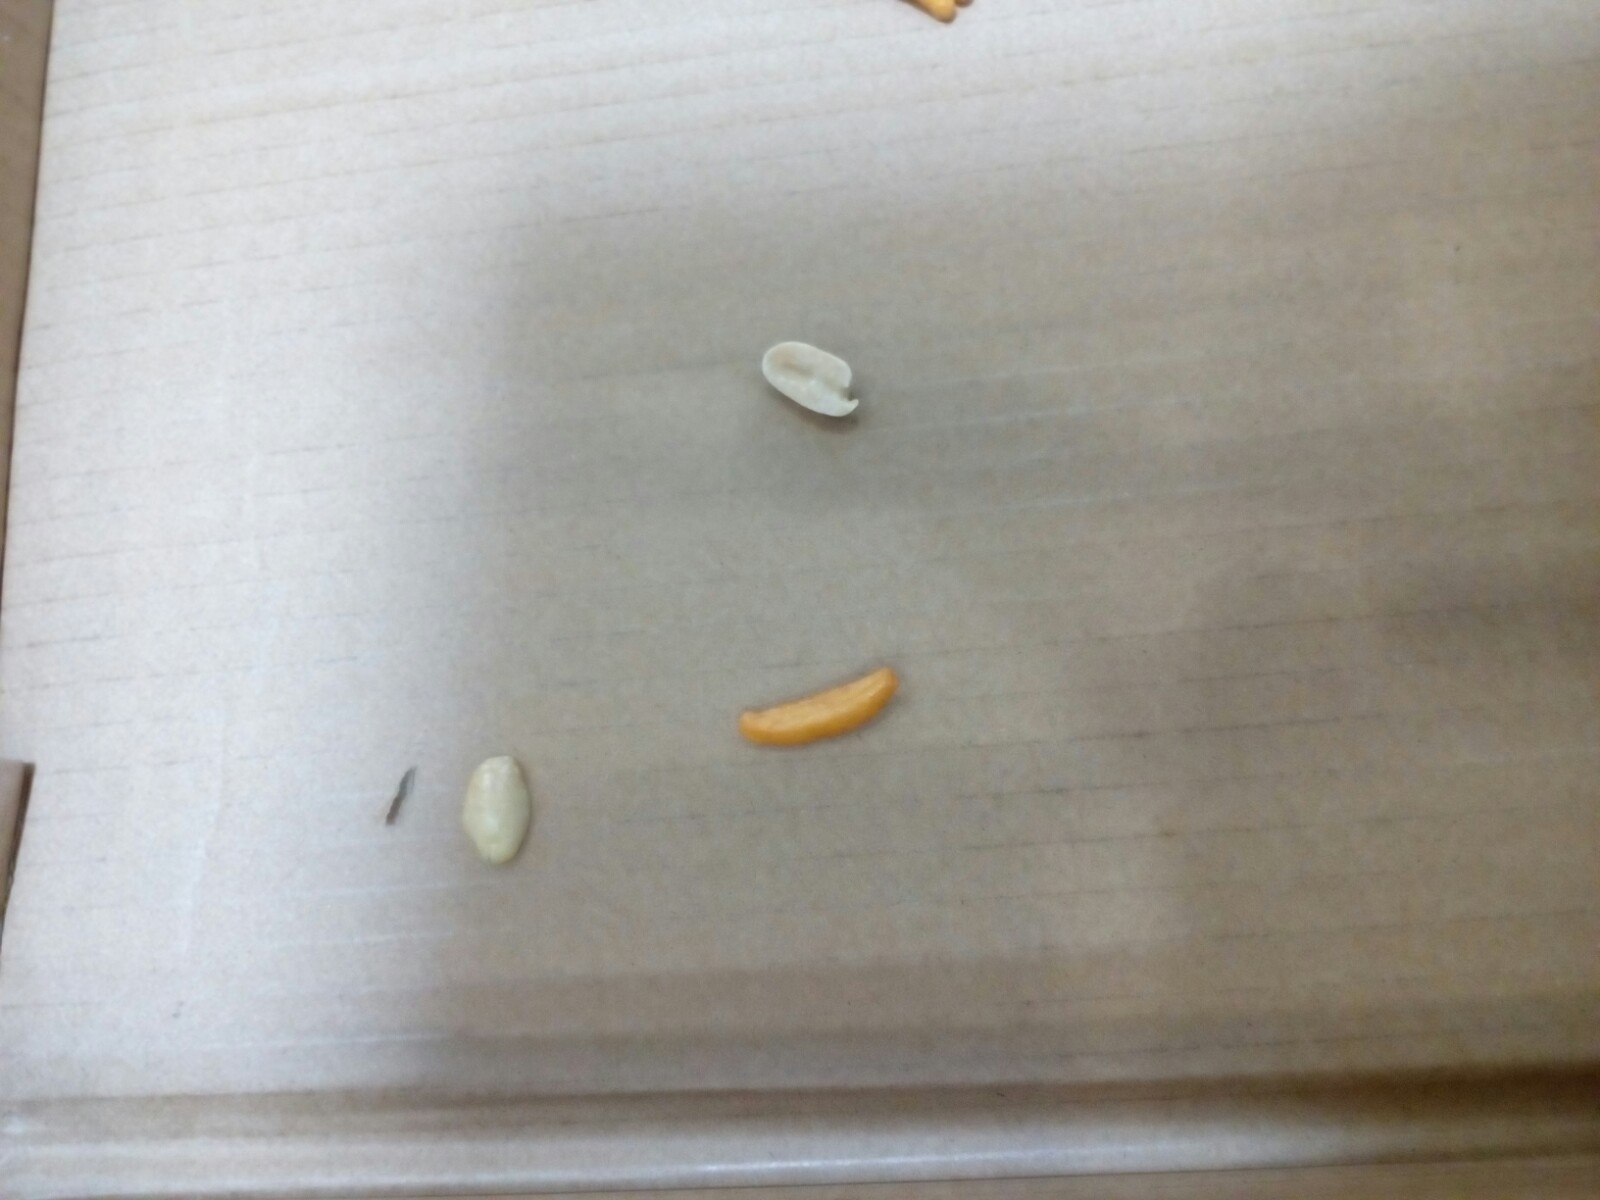peanut: (464, 747, 546, 874), (751, 338, 871, 424)
